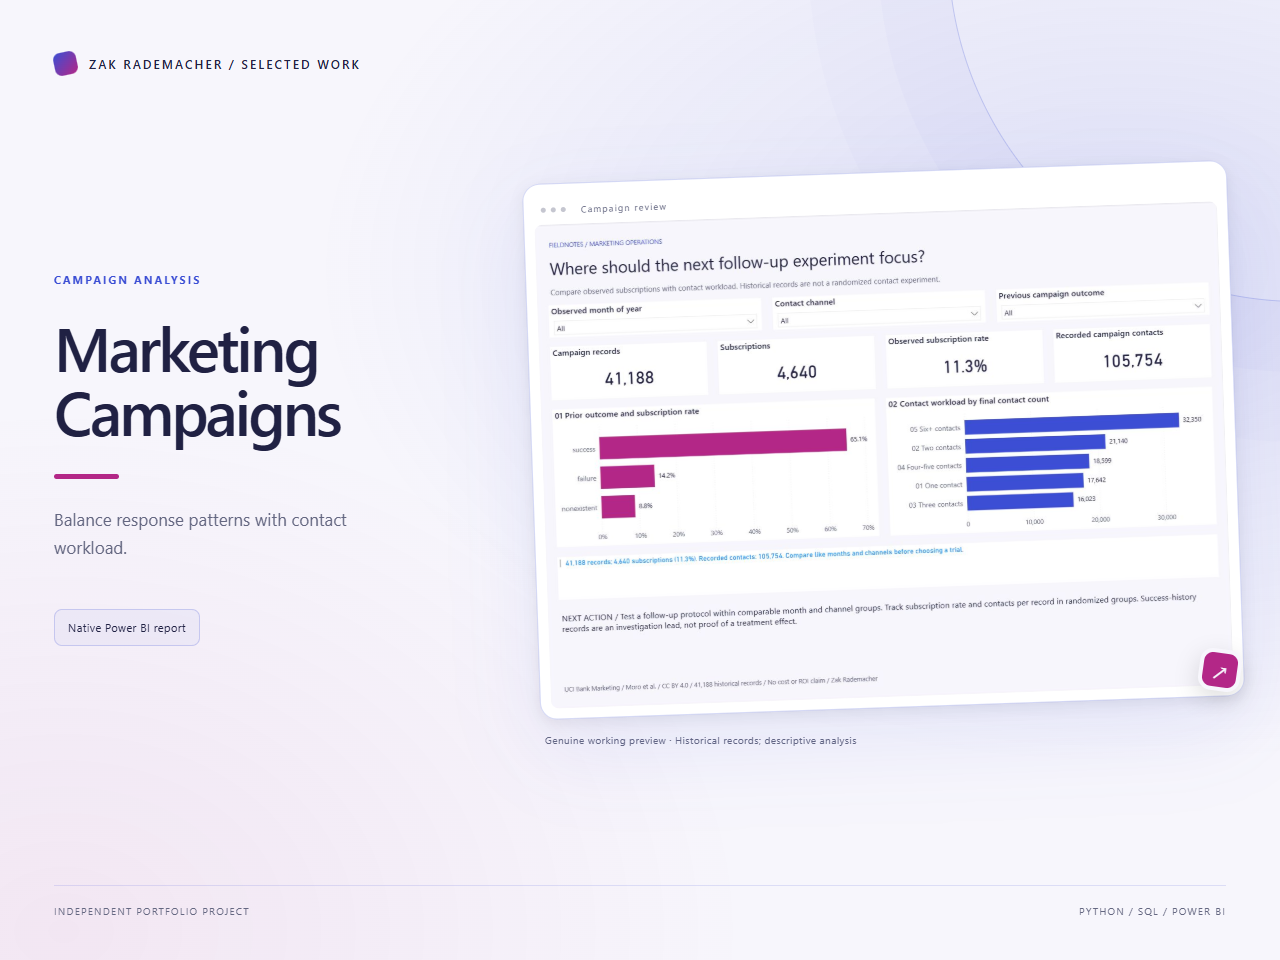

Layout of this report page (visuals, bound fields, positions):
{"tool":"powerbi","page":{"name":"01  Campaign review","canvas":[1440,1000],"ordinal":0},"visuals":[{"type":"textbox","box":[24,10,1392,28],"z":0},{"type":"textbox","box":[24,44,1392,58],"z":0},{"type":"textbox","box":[24,107,1392,36],"z":0},{"type":"slicer","title":"Observed month of year","fields":{"Values":["Months.Month"]},"box":[24,150,448,68],"z":0},{"type":"slicer","title":"Contact channel","fields":{"Values":["Channels.Channel"]},"box":[496,150,448,68],"z":0},{"type":"slicer","title":"Previous campaign outcome","fields":{"Values":["Outcomes.Previous Outcome"]},"box":[968,150,448,68],"z":0},{"type":"card","title":"Campaign records","fields":{"Values":["Campaigns.Records"]},"box":[24,238,330,112],"z":0},{"type":"card","title":"Subscriptions","fields":{"Values":["Campaigns.Subscriptions"]},"box":[378,238,330,112],"z":0},{"type":"card","title":"Observed subscription rate","fields":{"Values":["Campaigns.Subscription Rate"]},"box":[732,238,330,112],"z":0},{"type":"card","title":"Recorded campaign contacts","fields":{"Values":["Campaigns.Recorded Contacts"]},"box":[1086,238,330,112],"z":0},{"type":"clusteredBarChart","title":"01  Prior outcome and subscription rate","fields":{"Category":["Outcomes.Previous Outcome"],"Y":["Campaigns.Subscription Rate"]},"box":[24,370,680,290],"z":0},{"type":"clusteredBarChart","title":"02  Contact workload by final contact count","fields":{"Category":["ContactBands.Contact Band"],"Y":["Campaigns.Recorded Contacts"]},"box":[728,370,688,290],"z":0},{"type":"multiRowCard","fields":{"Values":["Campaigns.Selection Finding"]},"box":[24,682,1392,90],"z":0},{"type":"textbox","box":[24,793,1392,95],"z":0},{"type":"textbox","box":[24,946,1392,38],"z":0}]}

Visuals, with their boxes on the page's 1440x1000 design canvas (x1, y1, x2, y2). These are canvas units, not pixel positions in the 1280x960 screenshot, which may show the page scaled, cropped or inside an application window:
textbox: rect(24, 10, 1416, 38)
textbox: rect(24, 44, 1416, 102)
textbox: rect(24, 107, 1416, 143)
"Observed month of year" slicer: rect(24, 150, 472, 218)
"Contact channel" slicer: rect(496, 150, 944, 218)
"Previous campaign outcome" slicer: rect(968, 150, 1416, 218)
"Campaign records" card: rect(24, 238, 354, 350)
"Subscriptions" card: rect(378, 238, 708, 350)
"Observed subscription rate" card: rect(732, 238, 1062, 350)
"Recorded campaign contacts" card: rect(1086, 238, 1416, 350)
"01  Prior outcome and subscription rate" clusteredBarChart: rect(24, 370, 704, 660)
"02  Contact workload by final contact count" clusteredBarChart: rect(728, 370, 1416, 660)
multiRowCard - Campaigns.Selection Finding: rect(24, 682, 1416, 772)
textbox: rect(24, 793, 1416, 888)
textbox: rect(24, 946, 1416, 984)
